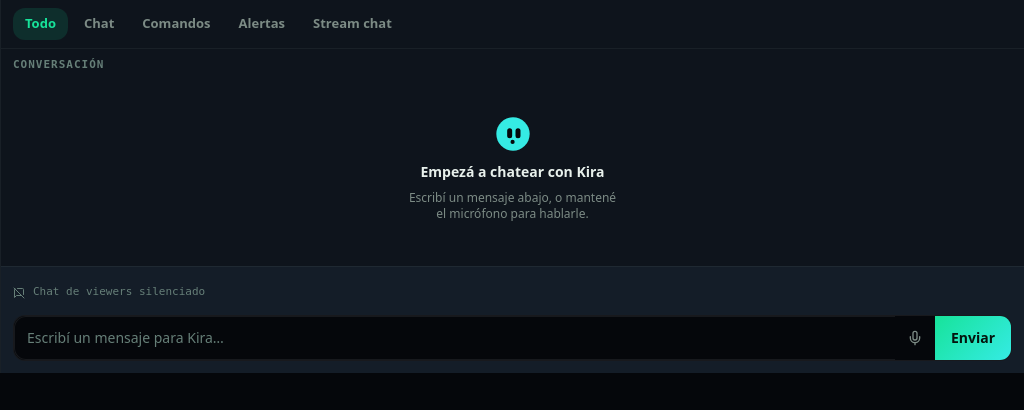
ConversationPanel — composer mic (pure PTT relocation, §3b(vi)) › confirms the send with a 'Turno de voz enviado' chip after a completed hold
Press the mouse on the button named "Mantené para hablar con Kira" at (915, 338), box [895,316,935,360]
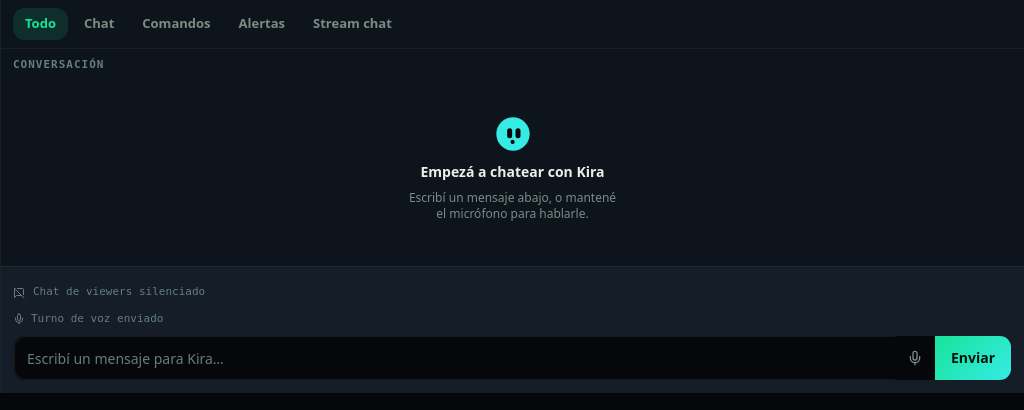
Check: the text "Turno de voz enviado" is shown, box [13,312,164,325]
